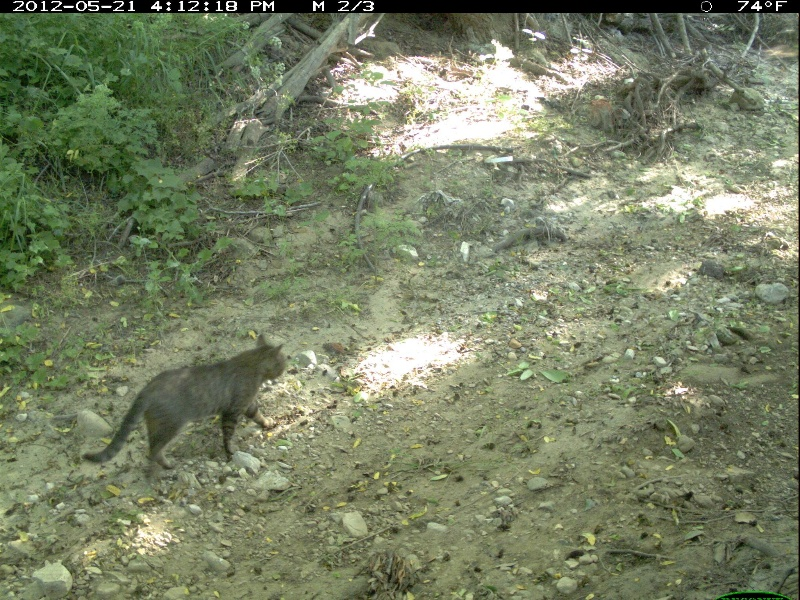cat: (80, 331, 290, 483)
